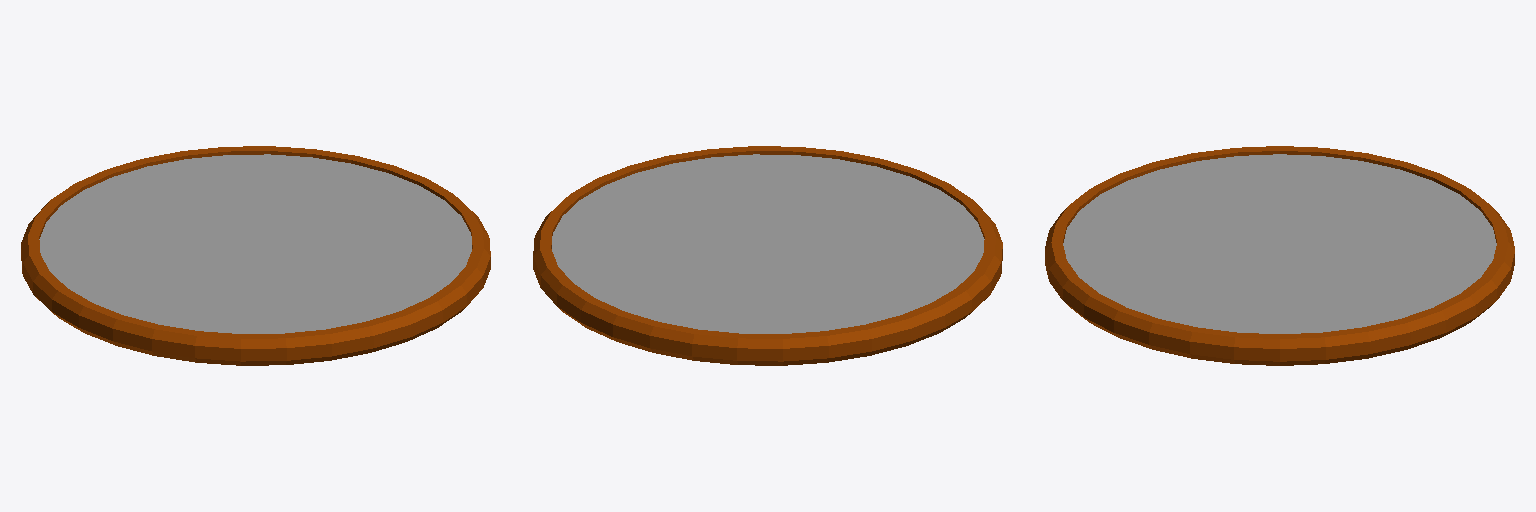
File: pizza.obj
3 renders of one model, left to right at view 1: azimuth 30°, elevation 25°; view 2: azimuth 150°, elevation 25°; view 3: azimuth 270°, elevation 25°, orthographic.
Visible parts, largest first — view 1: Pizza_Cylinder.001; view 2: Pizza_Cylinder.001; view 3: Pizza_Cylinder.001.
Part boxes in pixels (x1,y1,x2,y2): Pizza_Cylinder.001: (21, 146, 490, 365); Pizza_Cylinder.001: (533, 146, 1002, 365); Pizza_Cylinder.001: (1045, 146, 1514, 365).
Bounding box in the file's own units: 2.06 × 0.1297 × 2.06.